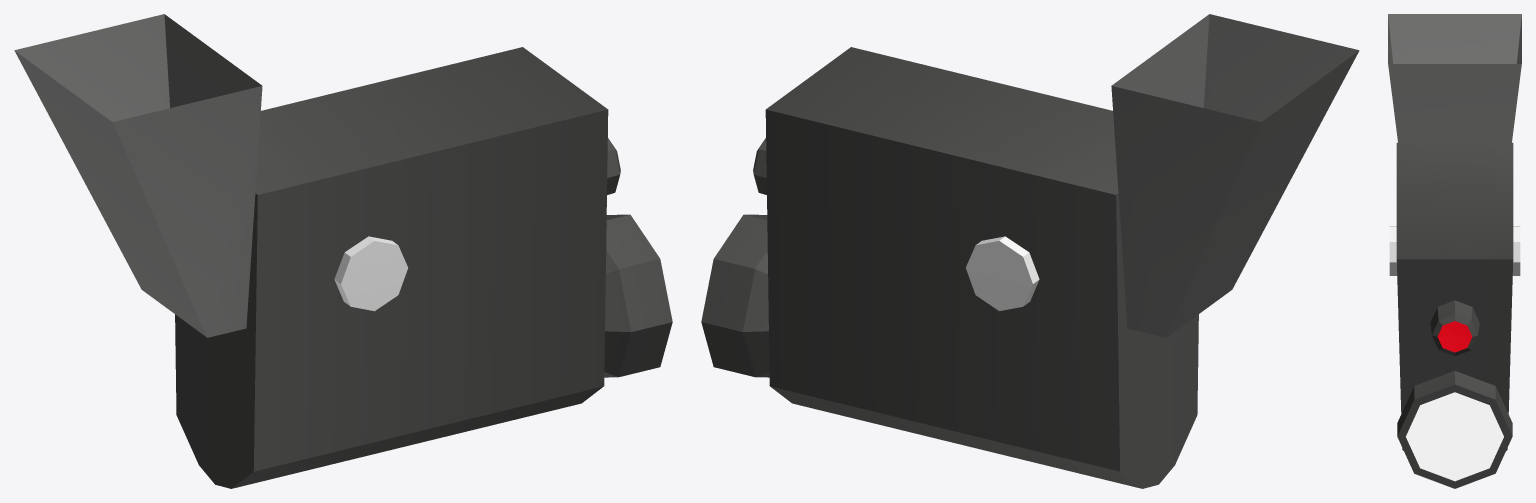
Rendered from SmallLaserCombo_mesh.fbx.
3 views of the same model, side by side, from view 1: azimuth 30°, elevation 25°; view 2: azimuth 150°, elevation 25°; view 3: azimuth 270°, elevation 25° (orthographic). The views are drawn at different scales.
Parts seen in each view (by area): view 1: SmallLaserCombo_mesh; view 2: SmallLaserCombo_mesh; view 3: SmallLaserCombo_mesh.
Boxes of the visible parts, x1,y1,x2,y2 form: SmallLaserCombo_mesh: (14,14,672,488); SmallLaserCombo_mesh: (701,14,1359,488); SmallLaserCombo_mesh: (1388,14,1521,488).
Size of the model in its own units: 7.94 by 5.83 by 2.38.
Materials: 2 (1 with a texture image).
